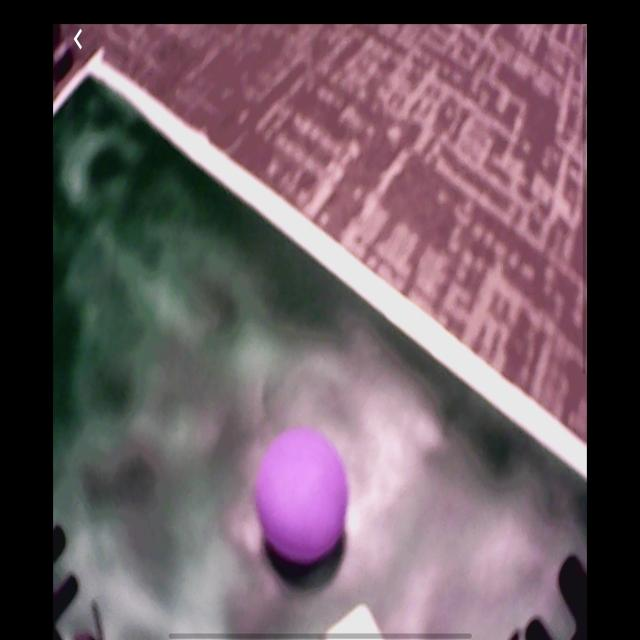ball: (255, 427, 353, 571)
